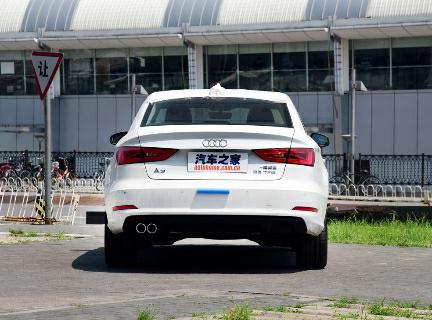奥迪-Q3: (99, 78, 336, 267)
